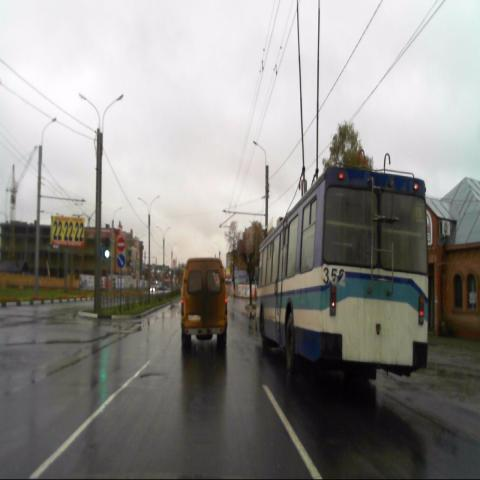3_1: (117, 237, 125, 252)
4_2_1: (116, 254, 125, 269)
